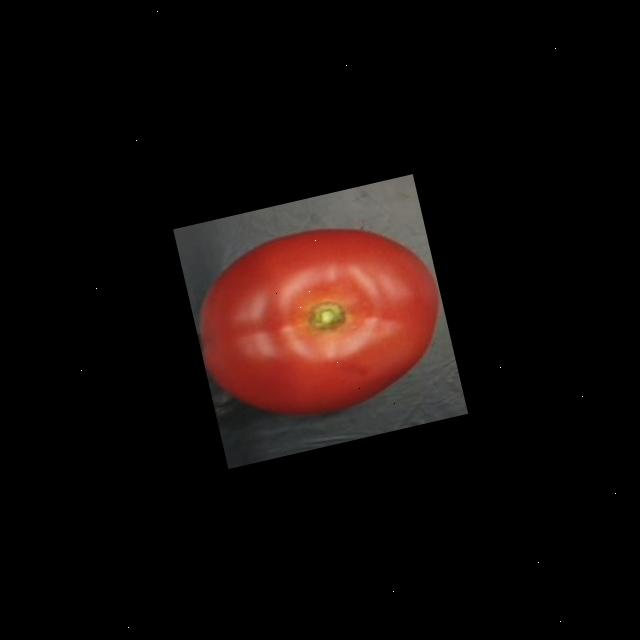tomato: (179, 200, 461, 440)
